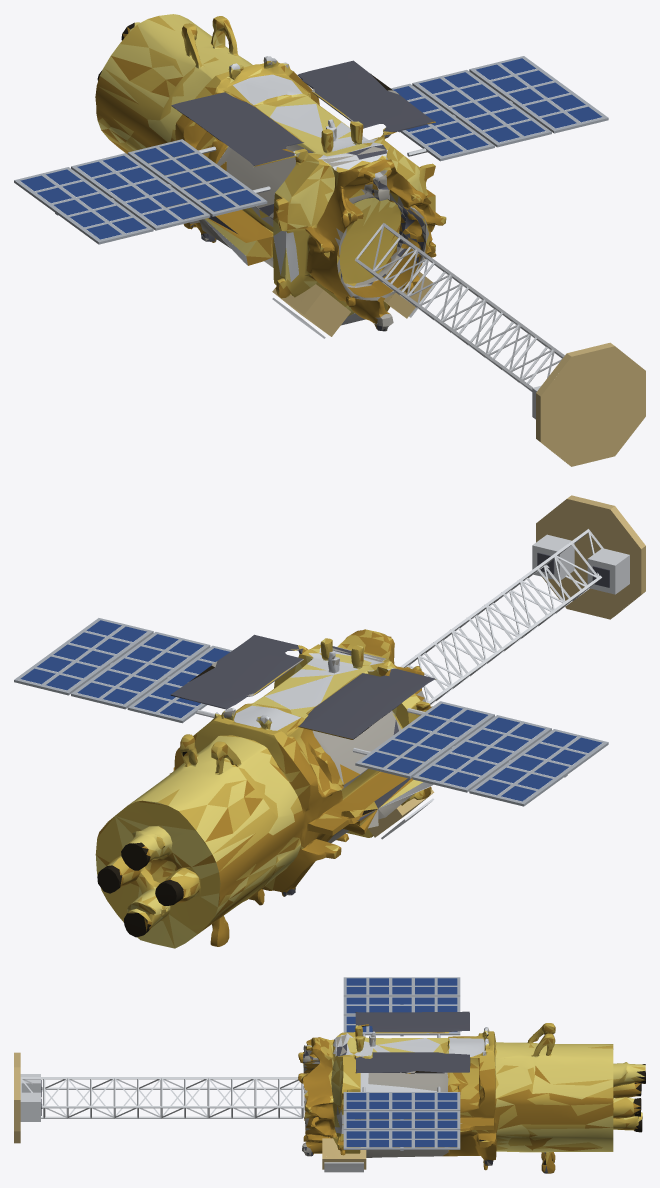
File: hitomi.glb
3 renders of one model, top to bottom at view 1: azimuth 30°, elevation 25°; view 2: azimuth 150°, elevation 25°; view 3: azimuth 270°, elevation 25°, orthographic. The views are drawn at different scales.
Visible parts, largest first — view 1: foil, solar-panel, body; view 2: foil, body, solar-panel; view 3: foil, body, solar-panel.
Part boxes in pixels (x1,y1,x2,y2): foil: [95, 14, 645, 466]; solar-panel: [20, 58, 601, 331]; body: [14, 22, 608, 419]; foil: [95, 495, 645, 948]; body: [14, 529, 629, 937]; solar-panel: [20, 552, 609, 896]; foil: [14, 1023, 645, 1173]; body: [20, 977, 645, 1172]; solar-panel: [41, 978, 554, 1173].
Size of the model in its own units: 9.2 by 3.47 by 14.35.
